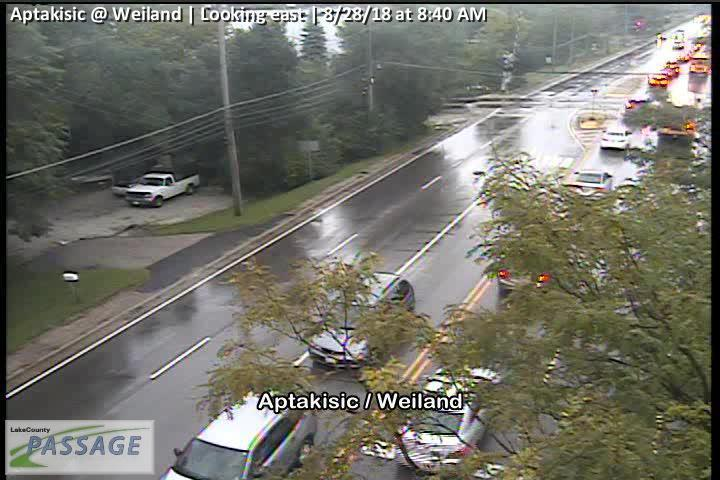Bus: (688, 49, 711, 73)
Sedan: (157, 388, 316, 480), (395, 363, 503, 475), (310, 271, 414, 370), (493, 233, 565, 290), (569, 169, 613, 196), (656, 115, 698, 142), (599, 124, 632, 150), (623, 96, 650, 114), (647, 72, 670, 86)
Truck: (125, 170, 201, 207)
